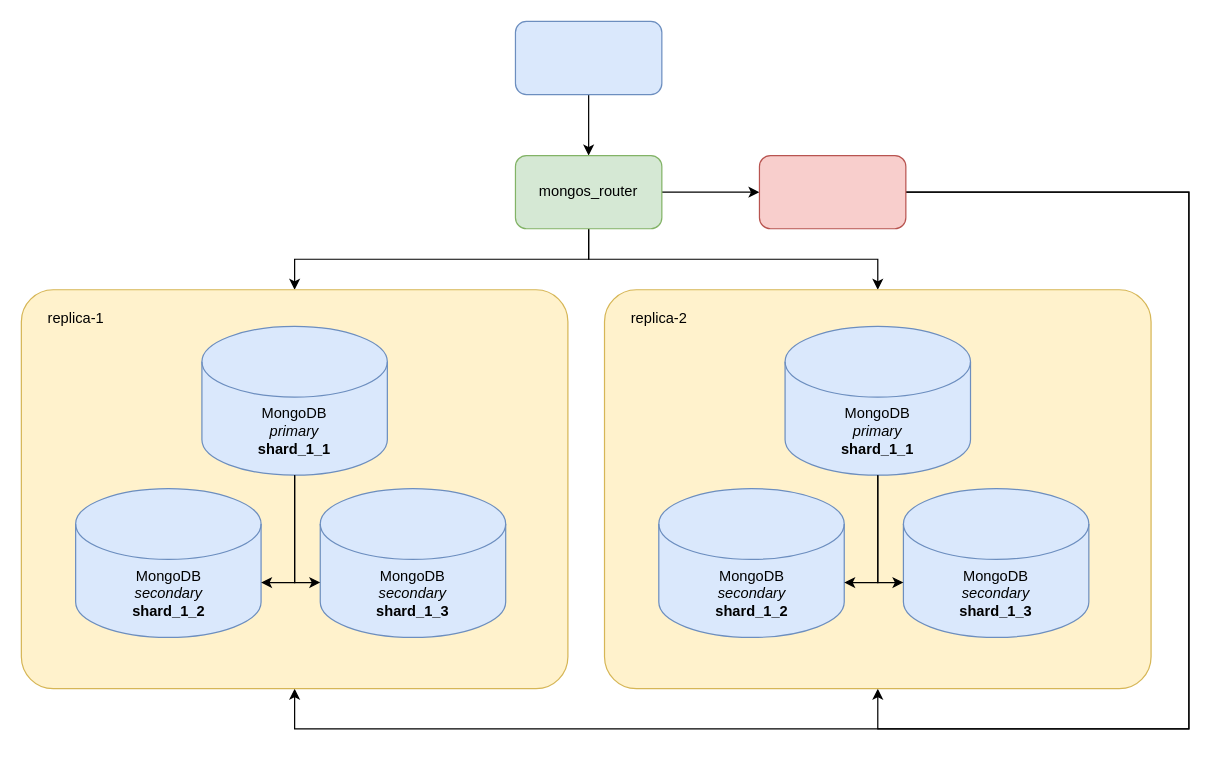
The diagram is 1220 pixels wide and 760 high, and some of its shapes have lost their labels. Each missing label, with the centre of its shape:
config_srv: (832,191)
pymongo_api: (588,57)
